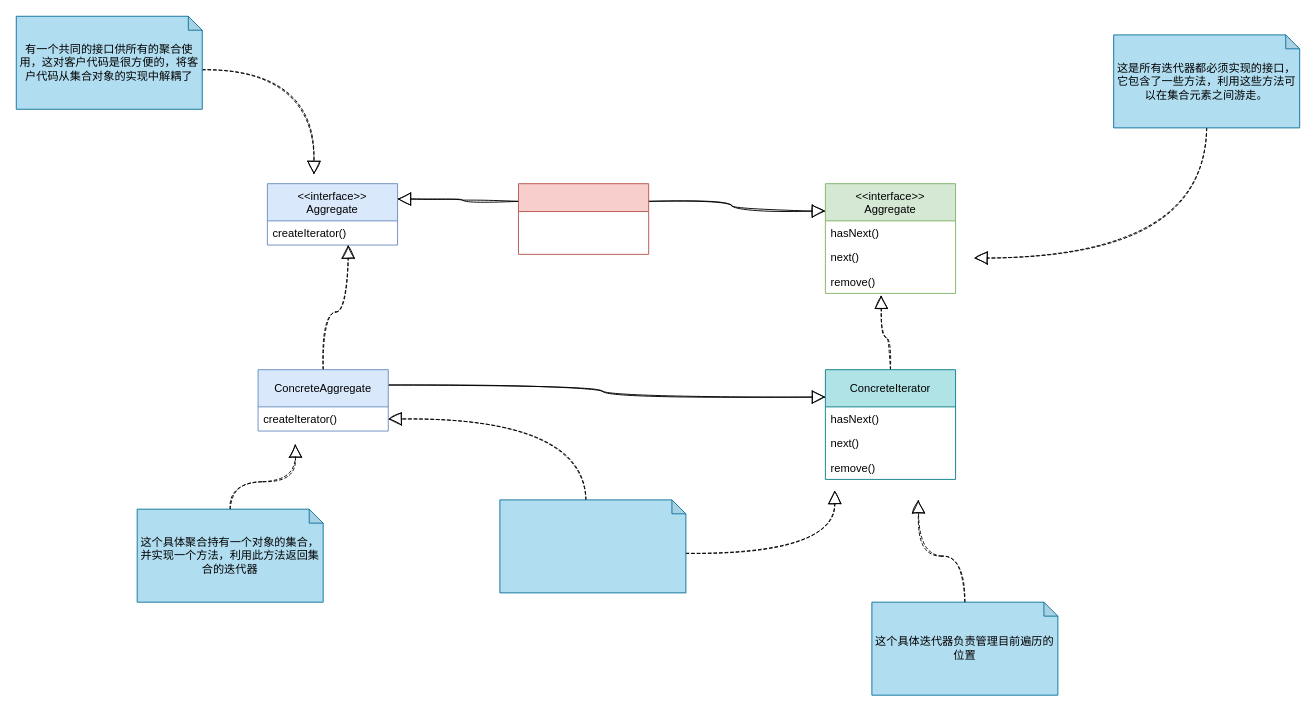
The diagram is 1316 pixels wide and 711 high, and some of its shapes have lost their labels. Here are the shapes that lost their labels. From the top down, the centre of each, then its label:
At (x=583, y=218): "client".
At (x=592, y=546): "每一个具体聚合都要负责实例化一个具体迭代器，次迭代器能够遍历对象集合".
